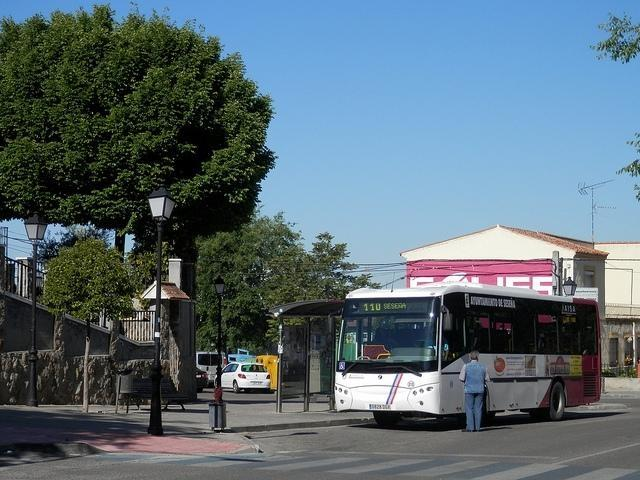bus: (334, 286, 602, 427)
car: (213, 362, 271, 394), (196, 351, 227, 382), (196, 366, 208, 392)
